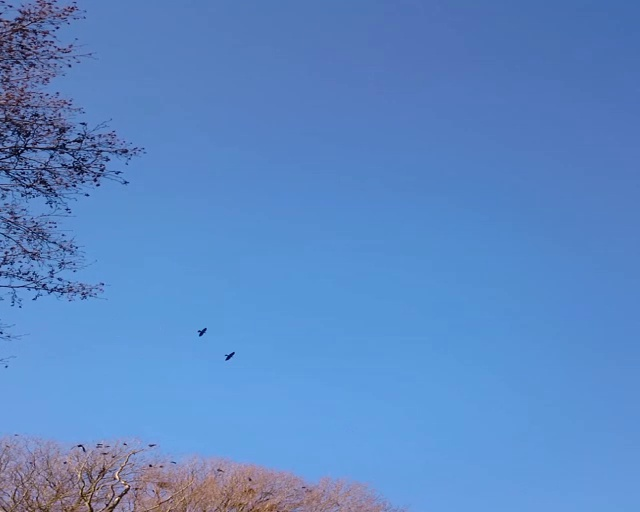BIRD: (224, 351, 236, 361)
